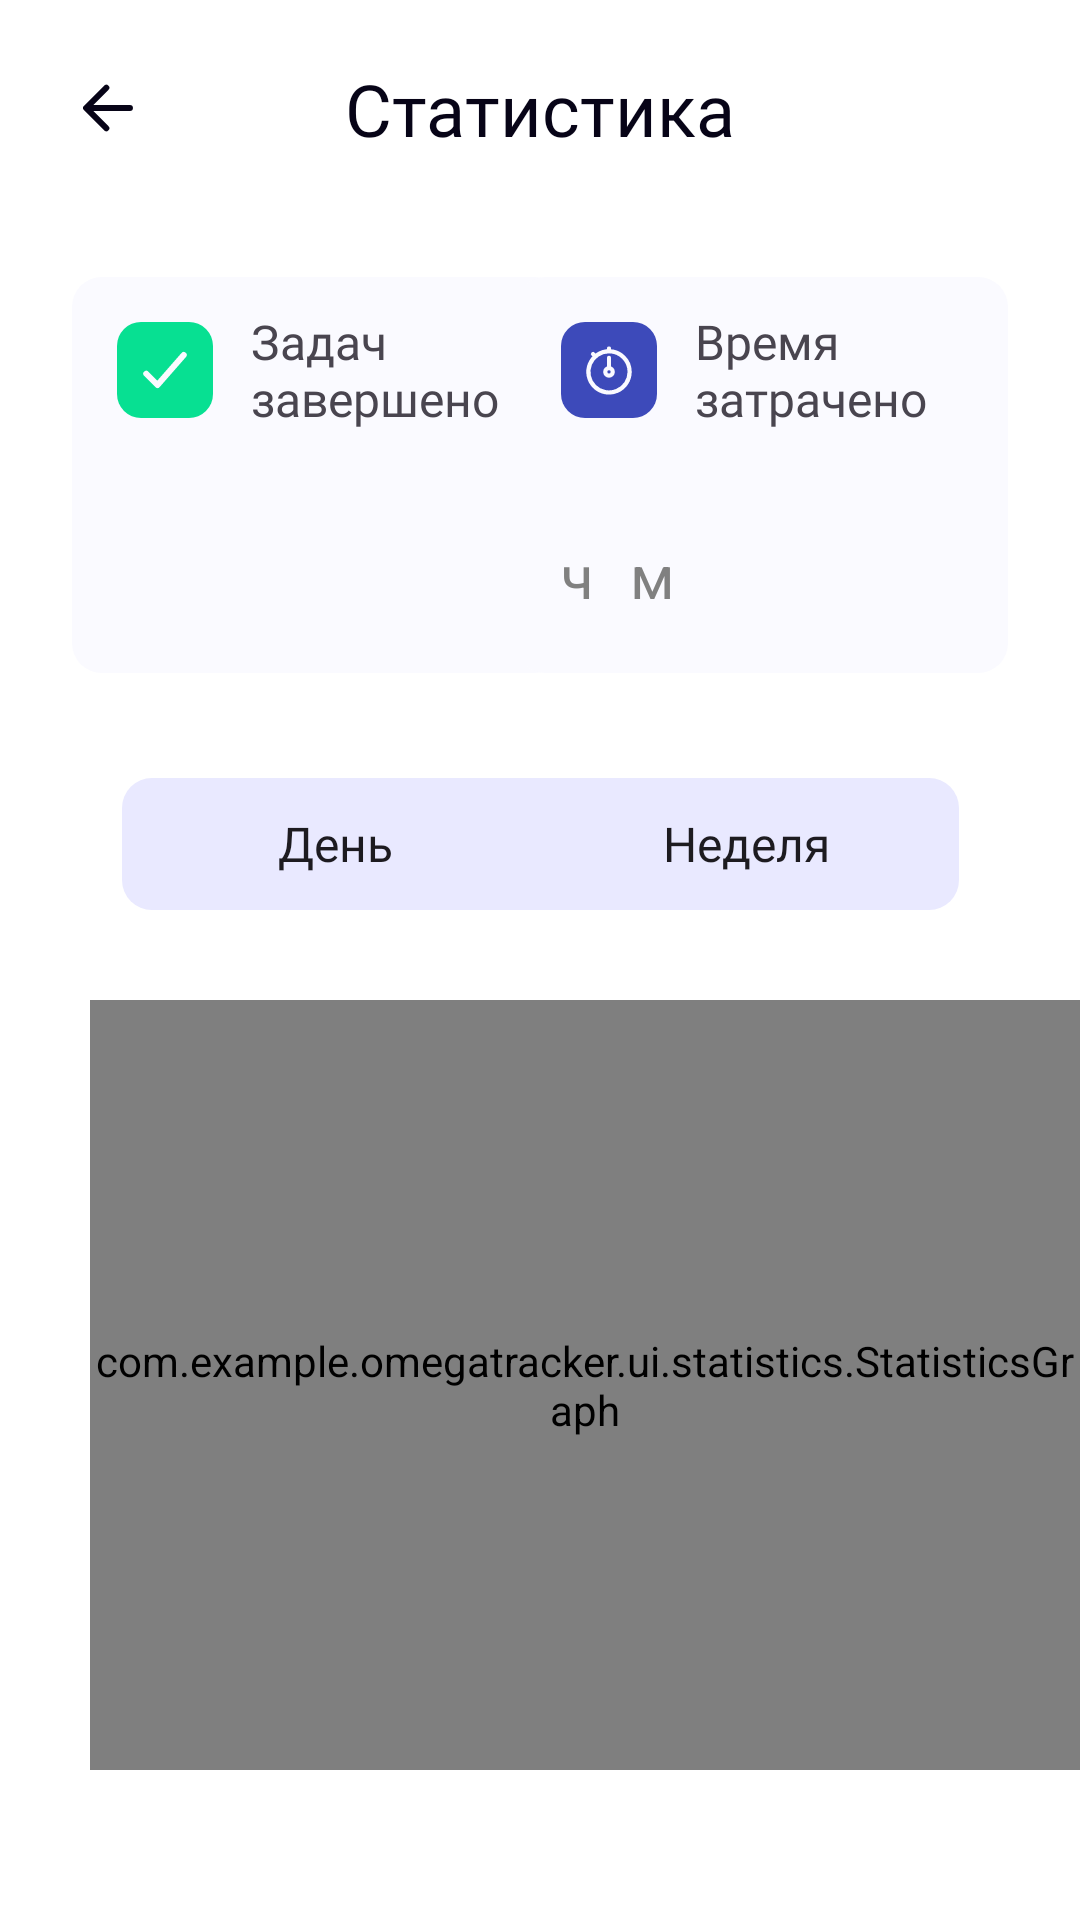

Icon bounding boxes for this 1080px x 1920px phone screenshot, format bbox=[x1, y1, x2, y2]:
arrow back: bbox=[83, 84, 133, 132]
complete view: bbox=[117, 322, 213, 418]
statistics time completed: bbox=[561, 322, 657, 418]
